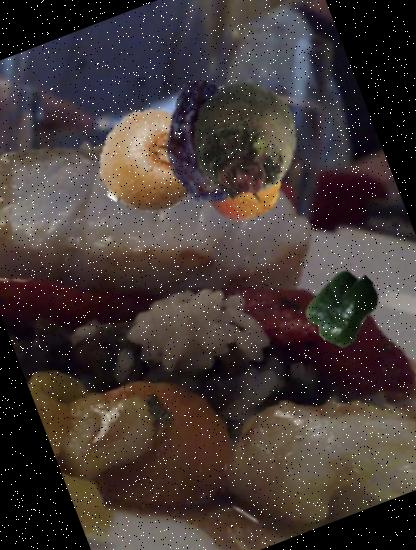Beetroot: (155, 52, 334, 230)
Dates: (122, 60, 286, 224)
Kiwi: (81, 92, 222, 232)
Mandarine: (194, 134, 298, 238)
Pepper: (296, 258, 392, 356)
